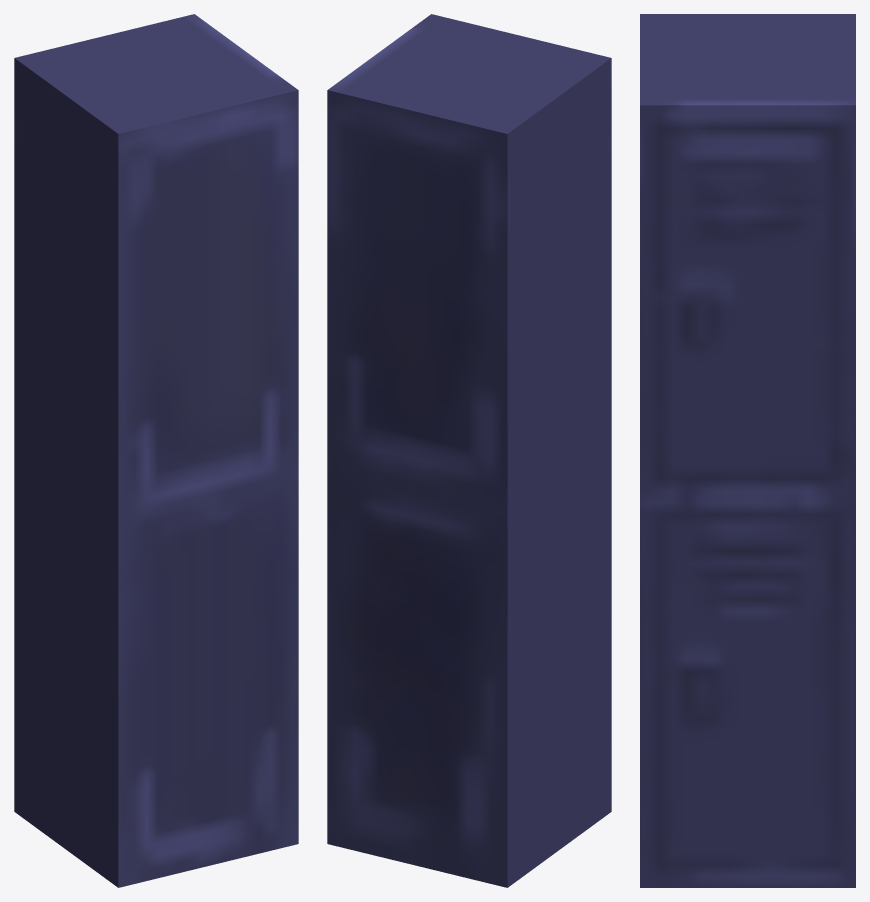
The model's file is skåp.fbx.
3 views of the same model, side by side, from view 1: azimuth 30°, elevation 25°; view 2: azimuth 150°, elevation 25°; view 3: azimuth 270°, elevation 25° (orthographic). The views are drawn at different scales.
Parts seen in each view (by area): view 1: skåp; view 2: skåp; view 3: skåp.
Boxes of the visible parts, x1,y1,x2,y2 form: skåp: (14,14,298,887); skåp: (327,14,611,887); skåp: (640,14,855,887).
Bounding box in the file's own units: 50 × 200 × 50.
1 material, 1 textured.
